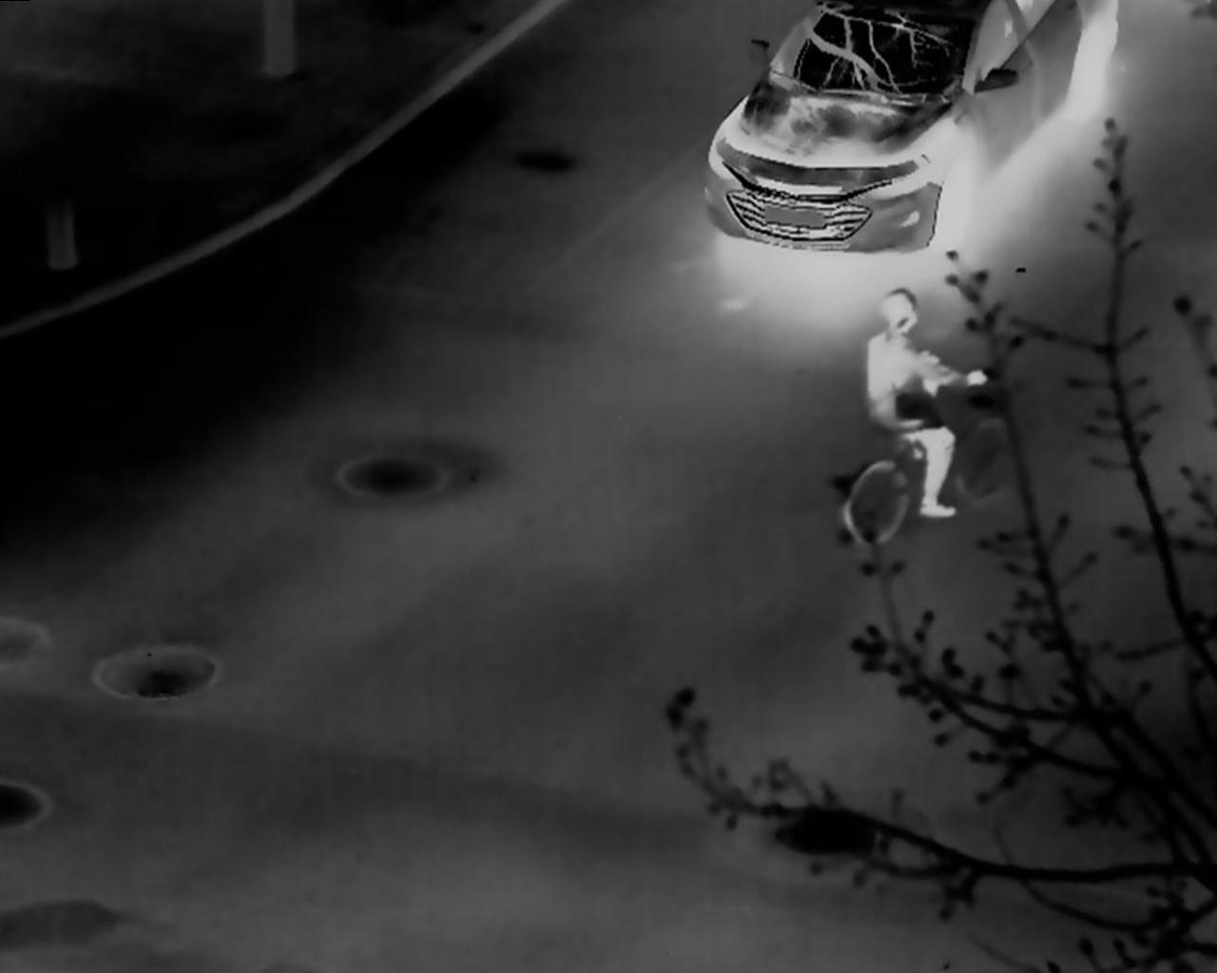person: (865, 288, 987, 517)
